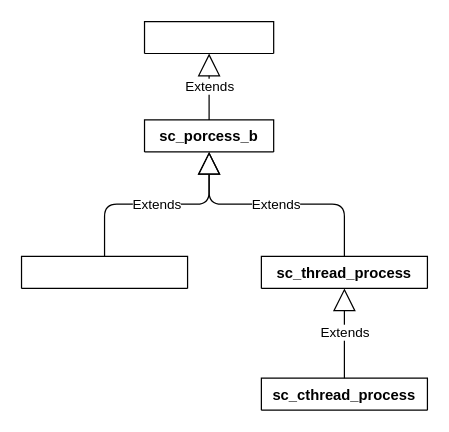
This 449x432 diagram has some shape labels left out. The box of each missing label's shape, as (x1, y1, x2, y2) in pixels:
sc_method_process: (20, 255, 188, 288)
sc_object: (143, 20, 274, 54)
